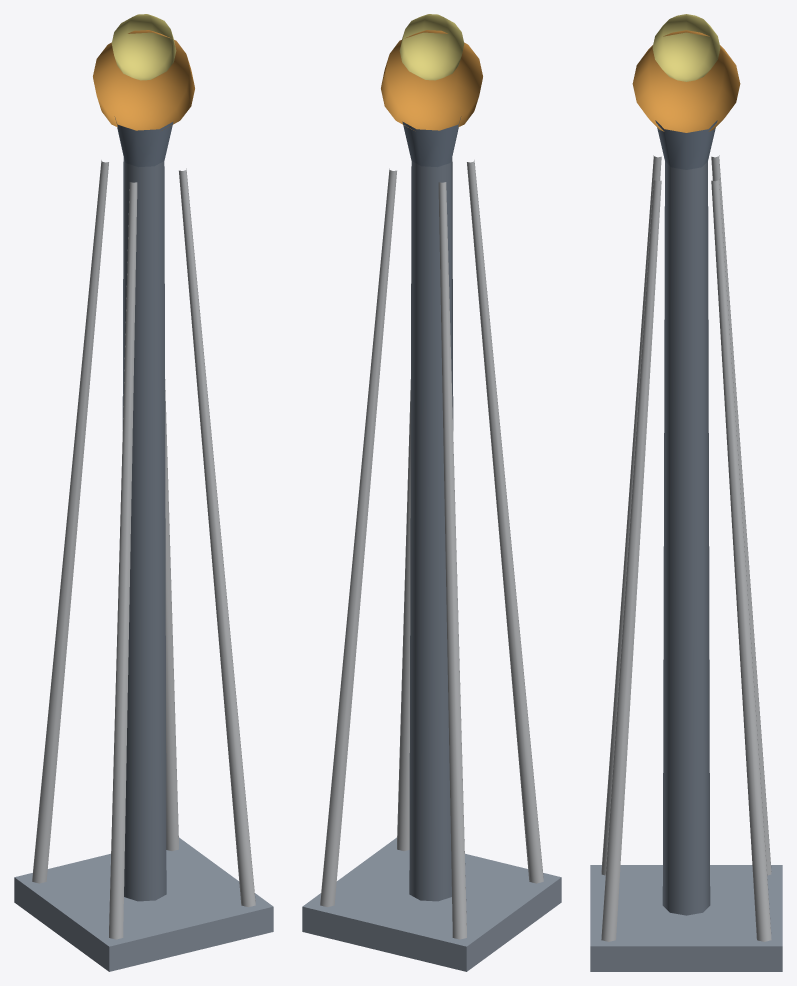
Rendered from flare-stack.glb.
The picture shows the model from 3 angles, left to right: view 1: azimuth 30°, elevation 25°; view 2: azimuth 150°, elevation 25°; view 3: azimuth 270°, elevation 25°; orthographic projection.
Parts seen in each view (by area): view 1: Root; view 2: Root; view 3: Root.
Boxes of the visible parts, x1,y1,x2,y2 form: Root: (14,14,273,971); Root: (302,14,561,971); Root: (590,14,782,971).
Bounding box in the file's own units: 3.4 × 17.8 × 3.4.
